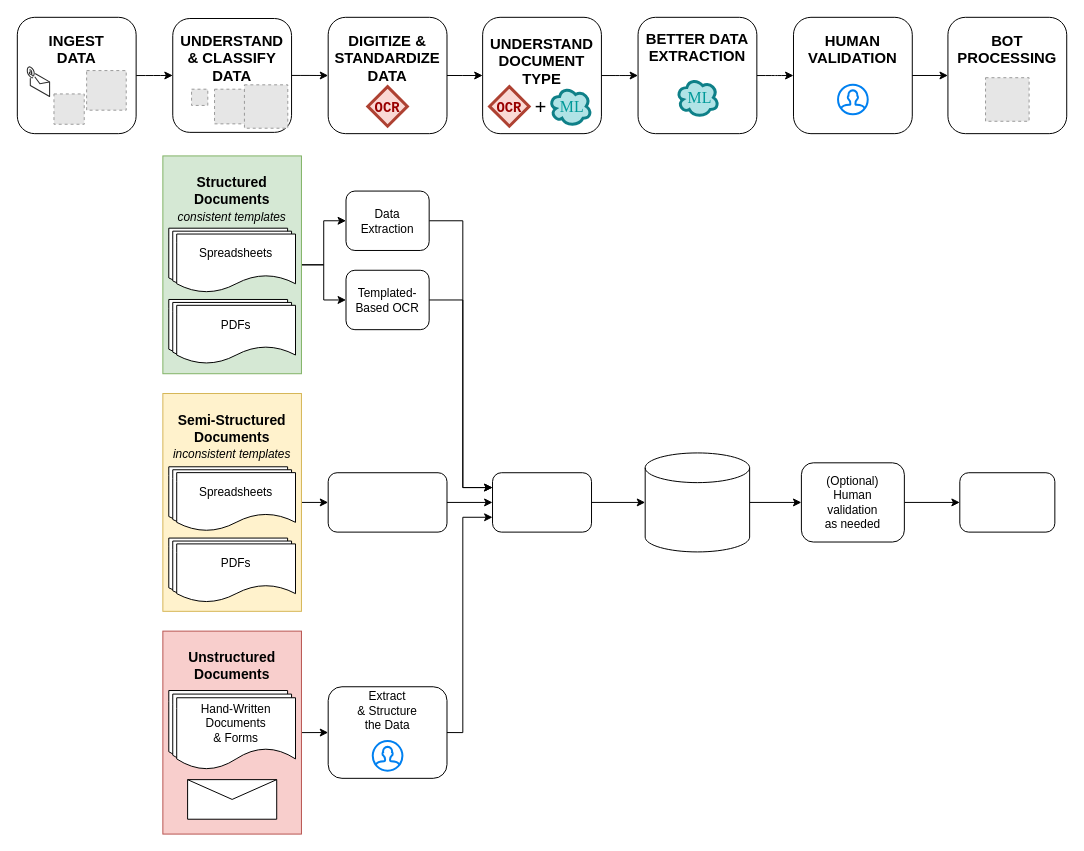
The diagram is 1084 pixels wide and 851 high, and some of its shapes have lost their labels. Grey dashed boxes stand in for pictures. Each missing label, with the centre of its shape:
Email Message: the point at 232,799
Enter into legacy systems: the point at 1007,502
OCR with Machine Learning Models: the point at 387,502
Sort by document type: the point at 542,502
Structured Data: the point at 697,502
